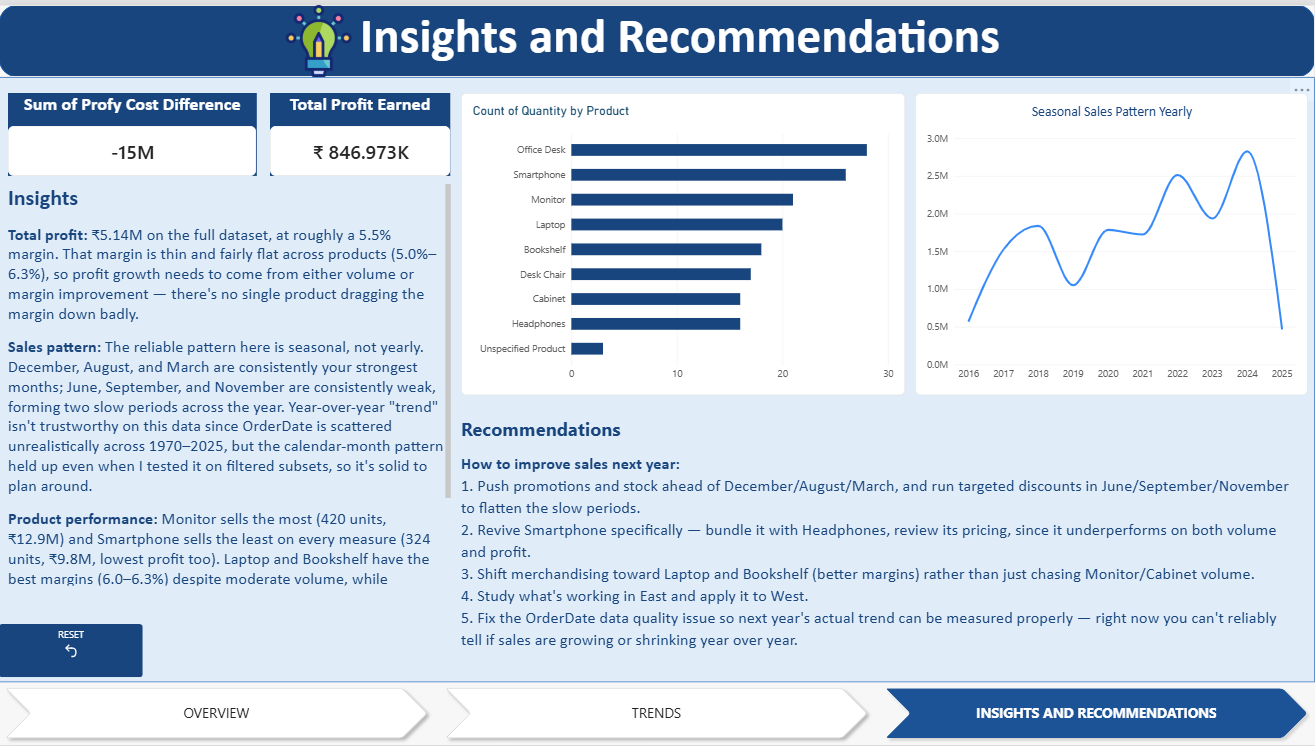

The page's visual inventory and layout, read from the dashboard file:
{"tool":"powerbi","page":{"name":"INSIGHTS AND RECOMMENDATIONS ","canvas":[1920,1080],"ordinal":2},"visuals":[{"type":"shape","box":[0,0,1920,105],"z":0},{"type":"textbox","box":[363.3,0,1260.5,128.4],"z":1000},{"type":"pageNavigator","box":[0,987.9,1920,91.3],"z":2000},{"type":"shape","box":[0,104.3,1920,883],"z":3000},{"type":"image","box":[407.7,0,118.4,104.9],"z":4000},{"type":"cardVisual","title":"Sum of Profy Cost Difference","fields":{"Data":["Sum(SalesData_1000Rows_WithIssues_copy.ProfitCostDifference)"]},"box":[12.6,127.8,362.9,121.5],"z":5000},{"type":"cardVisual","title":"Total Profit Earned","fields":{"Data":["SalesData_1000Rows_WithIssues_copy.TotalProfit"]},"box":[395.3,128.1,263.5,121.5],"z":6000},{"type":"lineChart","title":"Seasonal Sales Pattern Yearly","fields":{"Y":["Sum(SalesData_1000Rows_WithIssues_copy.Sales_Fixed)"],"Category":["SalesData_1000Rows_WithIssues_copy.YearText"]},"box":[1336.1,128.1,572.9,441.1],"z":7000},{"type":"clusteredBarChart","fields":{"Category":["SalesData_1000Rows_WithIssues_copy.Product"],"Y":["CountNonNull(SalesData_1000Rows_WithIssues_copy.Quantity)"]},"box":[673.6,128.1,647.9,441.1],"z":8000},{"type":"textbox","box":[12.8,261.7,646.1,585.7],"z":9000},{"type":"textbox","box":[673.6,600.3,1215.3,382.5],"z":10000},{"type":"actionButton","box":[0,903.3,209.8,77.8],"z":10001}]}

Visuals, with their boxes in screenshot pixels (x1, y1, x2, y2), scaled from the page's 1920x1080 canvas onto the 1315x746 screenshot:
shape: <bbox>0, 0, 1314, 73</bbox>
textbox: <bbox>249, 0, 1112, 89</bbox>
pageNavigator: <bbox>0, 682, 1314, 745</bbox>
shape: <bbox>0, 72, 1314, 682</bbox>
image: <bbox>279, 0, 360, 72</bbox>
"Sum of Profy Cost Difference" cardVisual: <bbox>9, 88, 257, 172</bbox>
"Total Profit Earned" cardVisual: <bbox>271, 88, 451, 172</bbox>
"Seasonal Sales Pattern Yearly" lineChart: <bbox>915, 88, 1307, 393</bbox>
clusteredBarChart - SalesData_1000Rows_WithIssues_copy.Product x CountNonNull(SalesData_1000Rows_WithIssues_copy.Quantity): <bbox>461, 88, 905, 393</bbox>
textbox: <bbox>9, 181, 451, 585</bbox>
textbox: <bbox>461, 415, 1294, 679</bbox>
actionButton: <bbox>0, 624, 144, 678</bbox>
